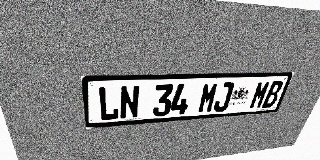3: (152, 84, 174, 117)
4: (170, 83, 192, 115)
B: (261, 80, 284, 108)
J: (212, 82, 235, 112)
L: (97, 86, 119, 121)
M: (197, 83, 219, 113), (248, 81, 271, 109)
N: (120, 85, 140, 119)
